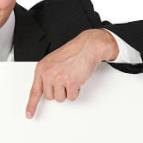up: (23, 54, 88, 120)
